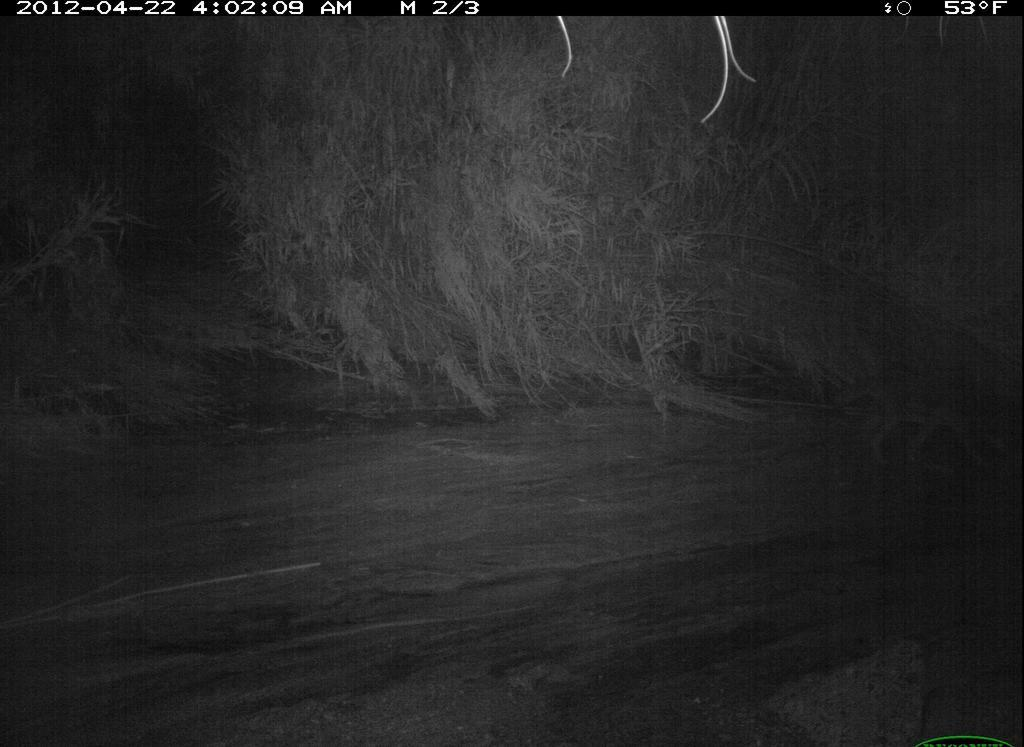coyote: (838, 363, 1013, 479)
